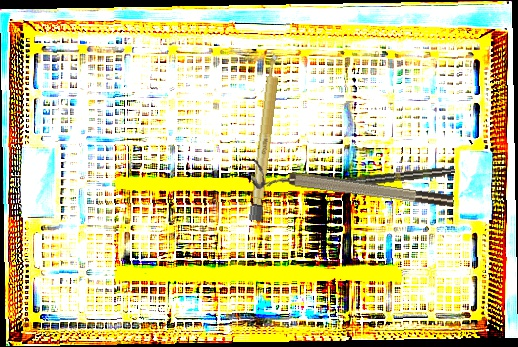Fixation Ring: (249, 159, 455, 220)
Handpiece: (323, 165, 456, 190)
Scalpel Handle: (248, 53, 283, 222)
